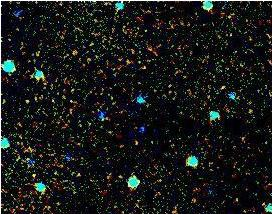star: (19, 159, 49, 189)
